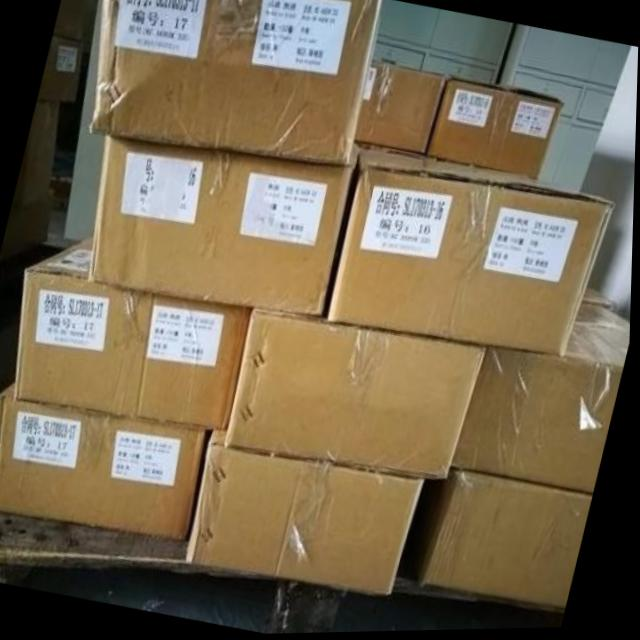box: (328, 151, 617, 359), (90, 132, 353, 317), (89, 0, 382, 165), (17, 235, 253, 430), (227, 307, 488, 481), (188, 429, 428, 599), (452, 304, 632, 495), (0, 382, 210, 541), (421, 467, 594, 612), (427, 74, 565, 181), (357, 59, 451, 156)
